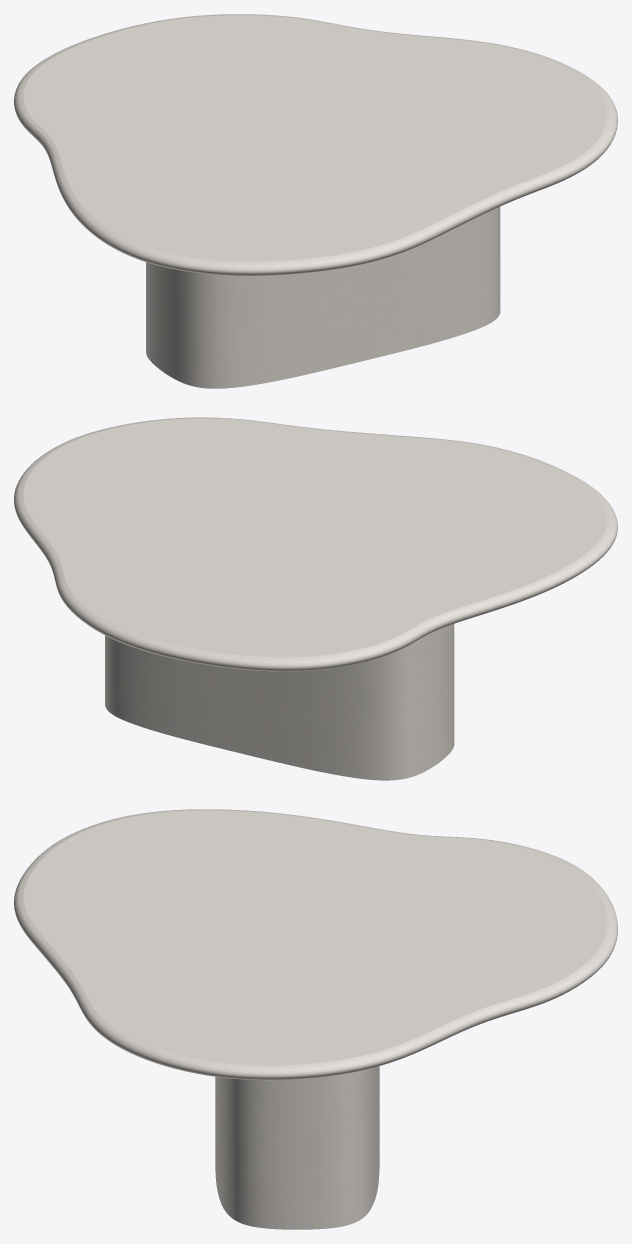
The model's file is pearlwhite_topone_round_fixed.glb.
3 renders of one model, top to bottom at view 1: azimuth 30°, elevation 25°; view 2: azimuth 150°, elevation 25°; view 3: azimuth 270°, elevation 25°, orthographic. The views are drawn at different scales.
Visible parts, largest first — view 1: round_topone, fixed; view 2: round_topone, fixed; view 3: round_topone, fixed.
Part boxes in pixels (x1,y1,x2,y2): round_topone: [14, 14, 617, 275]; fixed: [146, 207, 500, 388]; round_topone: [14, 417, 617, 671]; fixed: [105, 624, 454, 780]; round_topone: [14, 809, 617, 1080]; fixed: [215, 1066, 379, 1229].
Size of the model in its own units: 6.83 by 2.5 by 6.6.
Materials: 1 (1 with a texture image).
